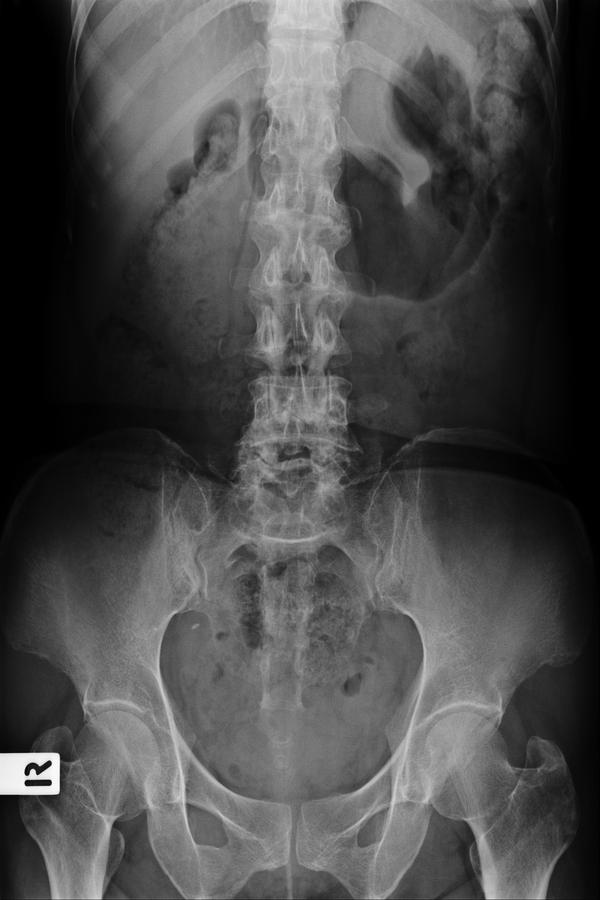lumbar scoliosis: (226, 122, 362, 561)
